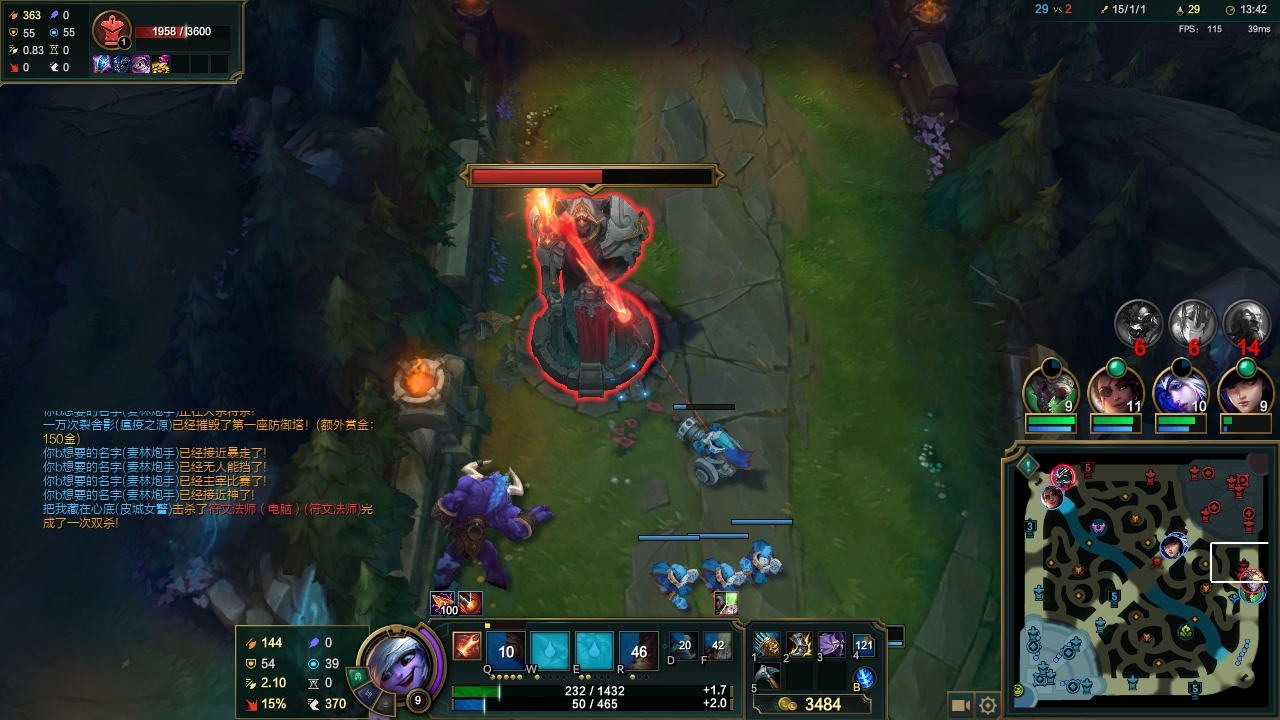DFFYT: (503, 168, 686, 397)
WFXB: (668, 415, 752, 487), (697, 553, 763, 600), (650, 561, 700, 606), (745, 541, 796, 585)
Yita: (1180, 669, 1211, 702)
